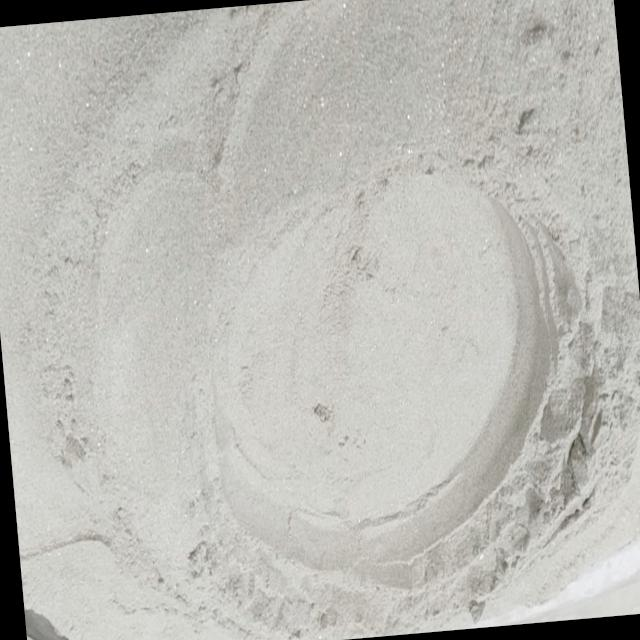C40: (212, 173, 553, 578)
